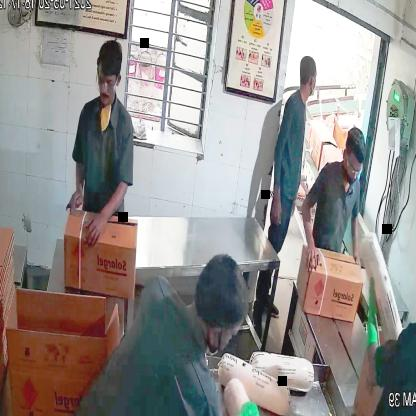goggles: (94, 68, 122, 96), (341, 156, 363, 179)
